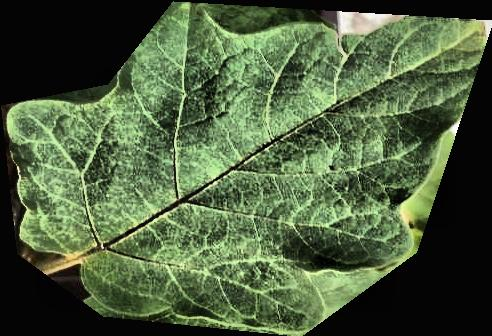HEALTHY: (1, 1, 492, 336)
